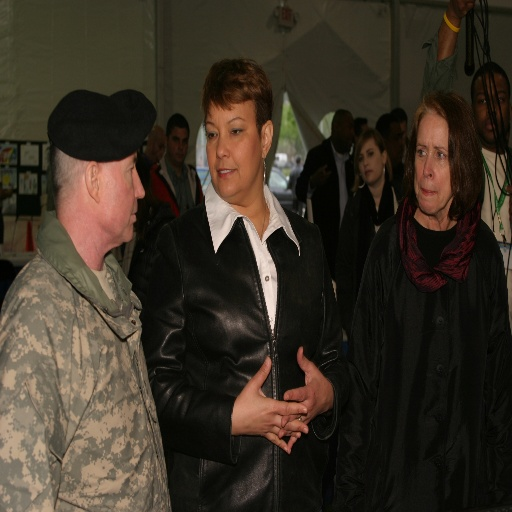hand: (232, 358, 306, 455), (278, 344, 328, 455), (449, 0, 475, 19)
